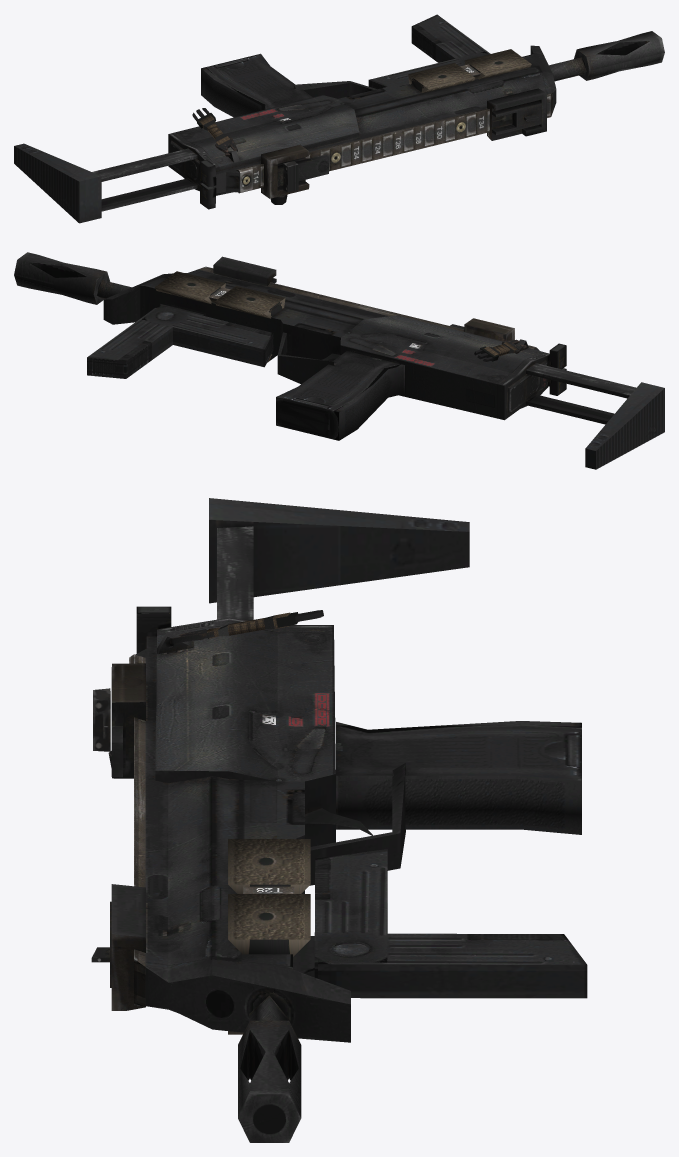
The model's file is t6_wpn_smg_mp7_world_LOD1.obj.
3 views of the same model, one above another, from view 1: azimuth 30°, elevation 25°; view 2: azimuth 150°, elevation 25°; view 3: azimuth 270°, elevation 25° (orthographic). The views are drawn at different scales.
Visible parts, largest first — view 1: mtl_t6_wpn_smg_mp7_camo3, mtl_t6_wpn_smg_mp7_camo1, mtl_t6_wpn_smg_mp7_camo2, mtl_t6_wpn_smg_mp7_camo4; view 2: mtl_t6_wpn_smg_mp7_camo2, mtl_t6_wpn_smg_mp7_camo3, mtl_t6_wpn_smg_mp7_camo1, mtl_t6_wpn_smg_mp7_camo4; view 3: mtl_t6_wpn_smg_mp7_camo2, mtl_t6_wpn_smg_mp7_camo3, mtl_t6_wpn_smg_mp7_camo1, mtl_t6_wpn_smg_mp7_camo4.
Part boxes in pixels (x1,y1,x2,y2): mtl_t6_wpn_smg_mp7_camo3: [14, 31, 664, 223]; mtl_t6_wpn_smg_mp7_camo1: [92, 27, 586, 211]; mtl_t6_wpn_smg_mp7_camo2: [14, 45, 556, 222]; mtl_t6_wpn_smg_mp7_camo4: [203, 14, 546, 193]; mtl_t6_wpn_smg_mp7_camo2: [103, 269, 664, 469]; mtl_t6_wpn_smg_mp7_camo3: [14, 252, 664, 469]; mtl_t6_wpn_smg_mp7_camo1: [97, 265, 636, 424]; mtl_t6_wpn_smg_mp7_camo4: [87, 256, 526, 378]; mtl_t6_wpn_smg_mp7_camo2: [145, 520, 581, 1042]; mtl_t6_wpn_smg_mp7_camo3: [155, 498, 581, 1142]; mtl_t6_wpn_smg_mp7_camo1: [91, 526, 587, 1021]; mtl_t6_wpn_smg_mp7_camo4: [111, 615, 586, 964].
Size of the model in its own units: 58.56 by 6.24 by 21.18.
